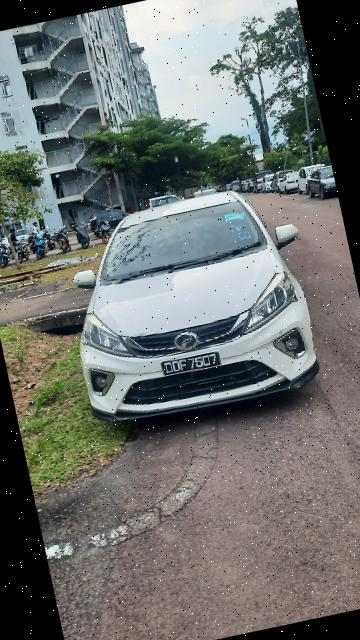License_Plate: (159, 348, 228, 381)
car: (48, 177, 338, 446)
